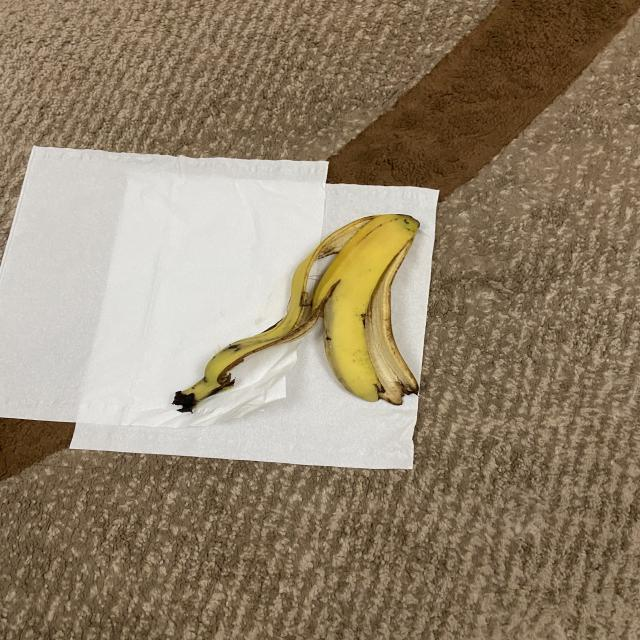banana-peel: (171, 212, 420, 413)
